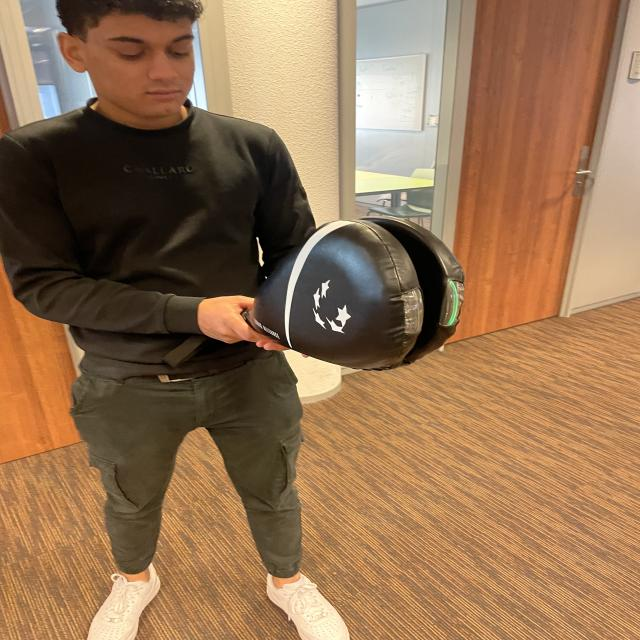paddle: (248, 214, 468, 371)
trigger: (439, 275, 466, 331)
